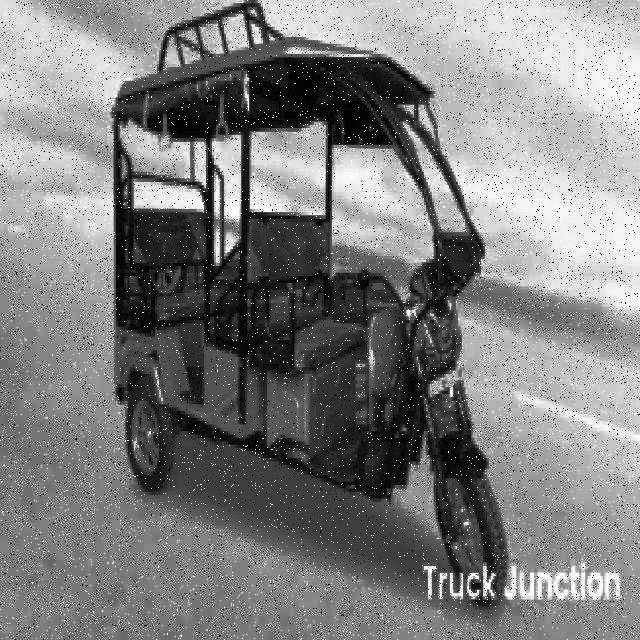Toto: (108, 38, 505, 596)
